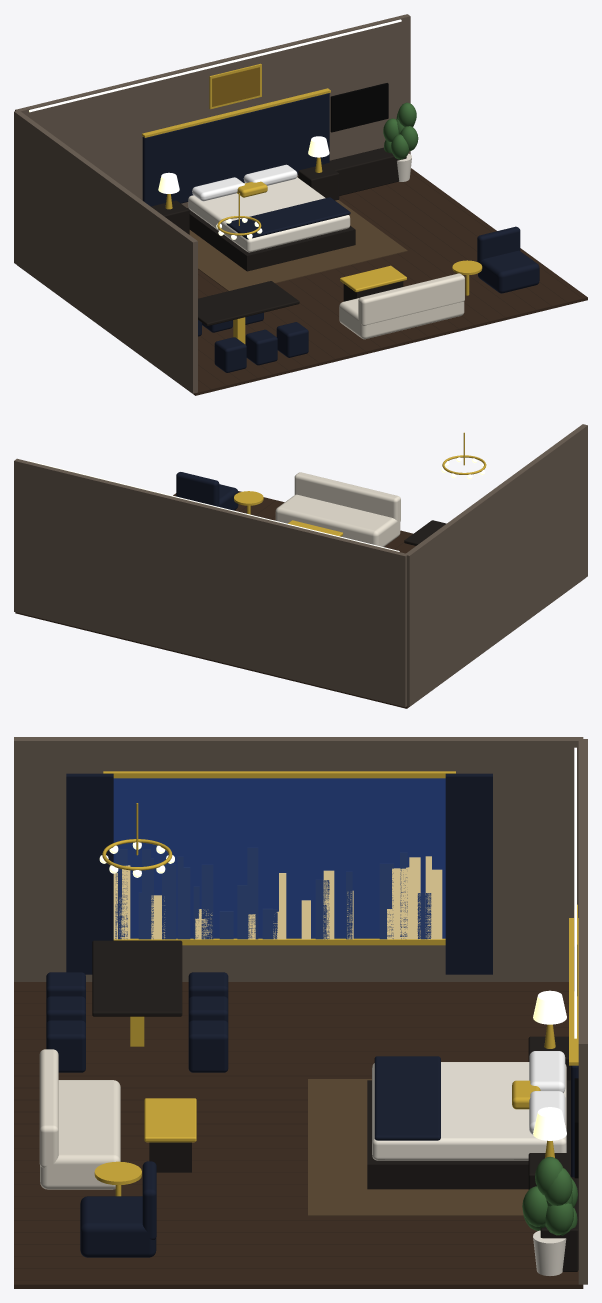
Rendered from presidential.glb.
3 views of the same model, one above another, from view 1: azimuth 30°, elevation 25°; view 2: azimuth 150°, elevation 25°; view 3: azimuth 270°, elevation 25° (orthographic). The views are drawn at different scales.
Parts seen in each view (by area): view 1: LuxuryStay presidential room; view 2: LuxuryStay presidential room; view 3: LuxuryStay presidential room.
Boxes of the visible parts, x1,y1,x2,y2 form: LuxuryStay presidential room: (14, 14, 587, 395); LuxuryStay presidential room: (14, 424, 587, 708); LuxuryStay presidential room: (14, 737, 587, 1288).
Bounding box in the file's own units: 7.65 × 2.85 × 6.05.
